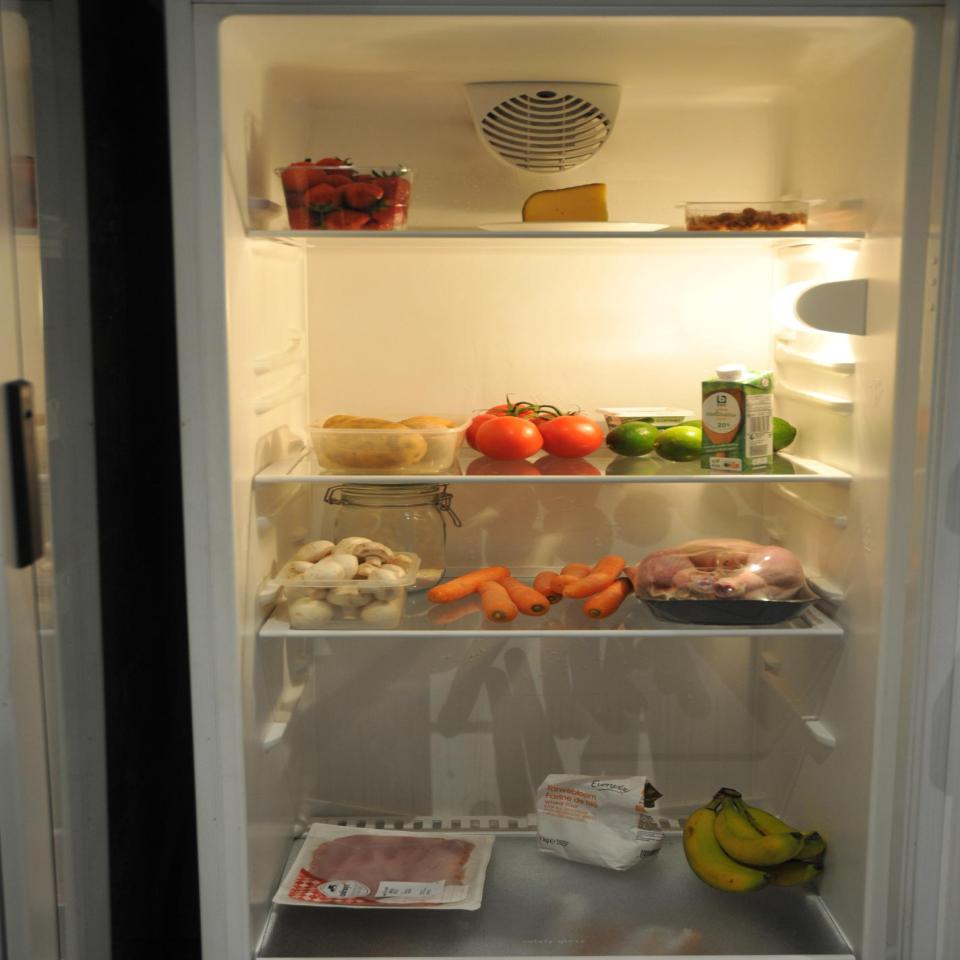Carne pollo: (632, 532, 824, 625)
Plátano: (680, 783, 840, 901)
Queso: (521, 180, 614, 230)
Tomate: (464, 392, 605, 463)
Zanahoria: (429, 556, 637, 624)
